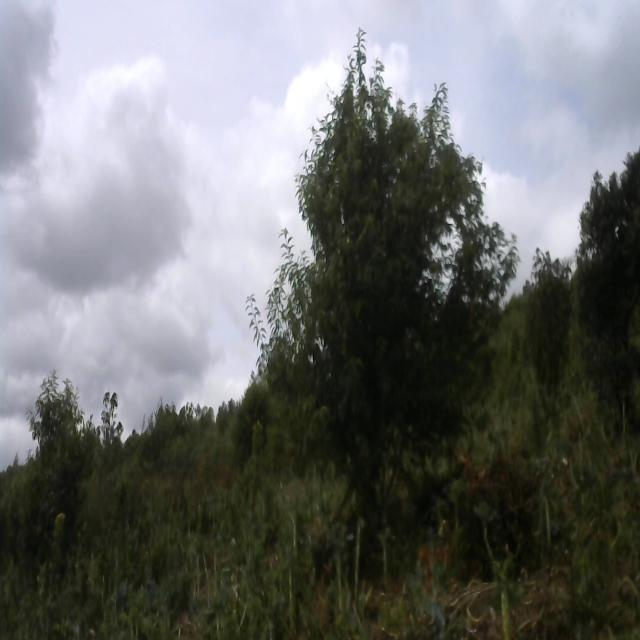Salix alba: (254, 27, 517, 535)
other: (577, 144, 640, 417), (31, 362, 83, 548), (522, 247, 574, 418)
